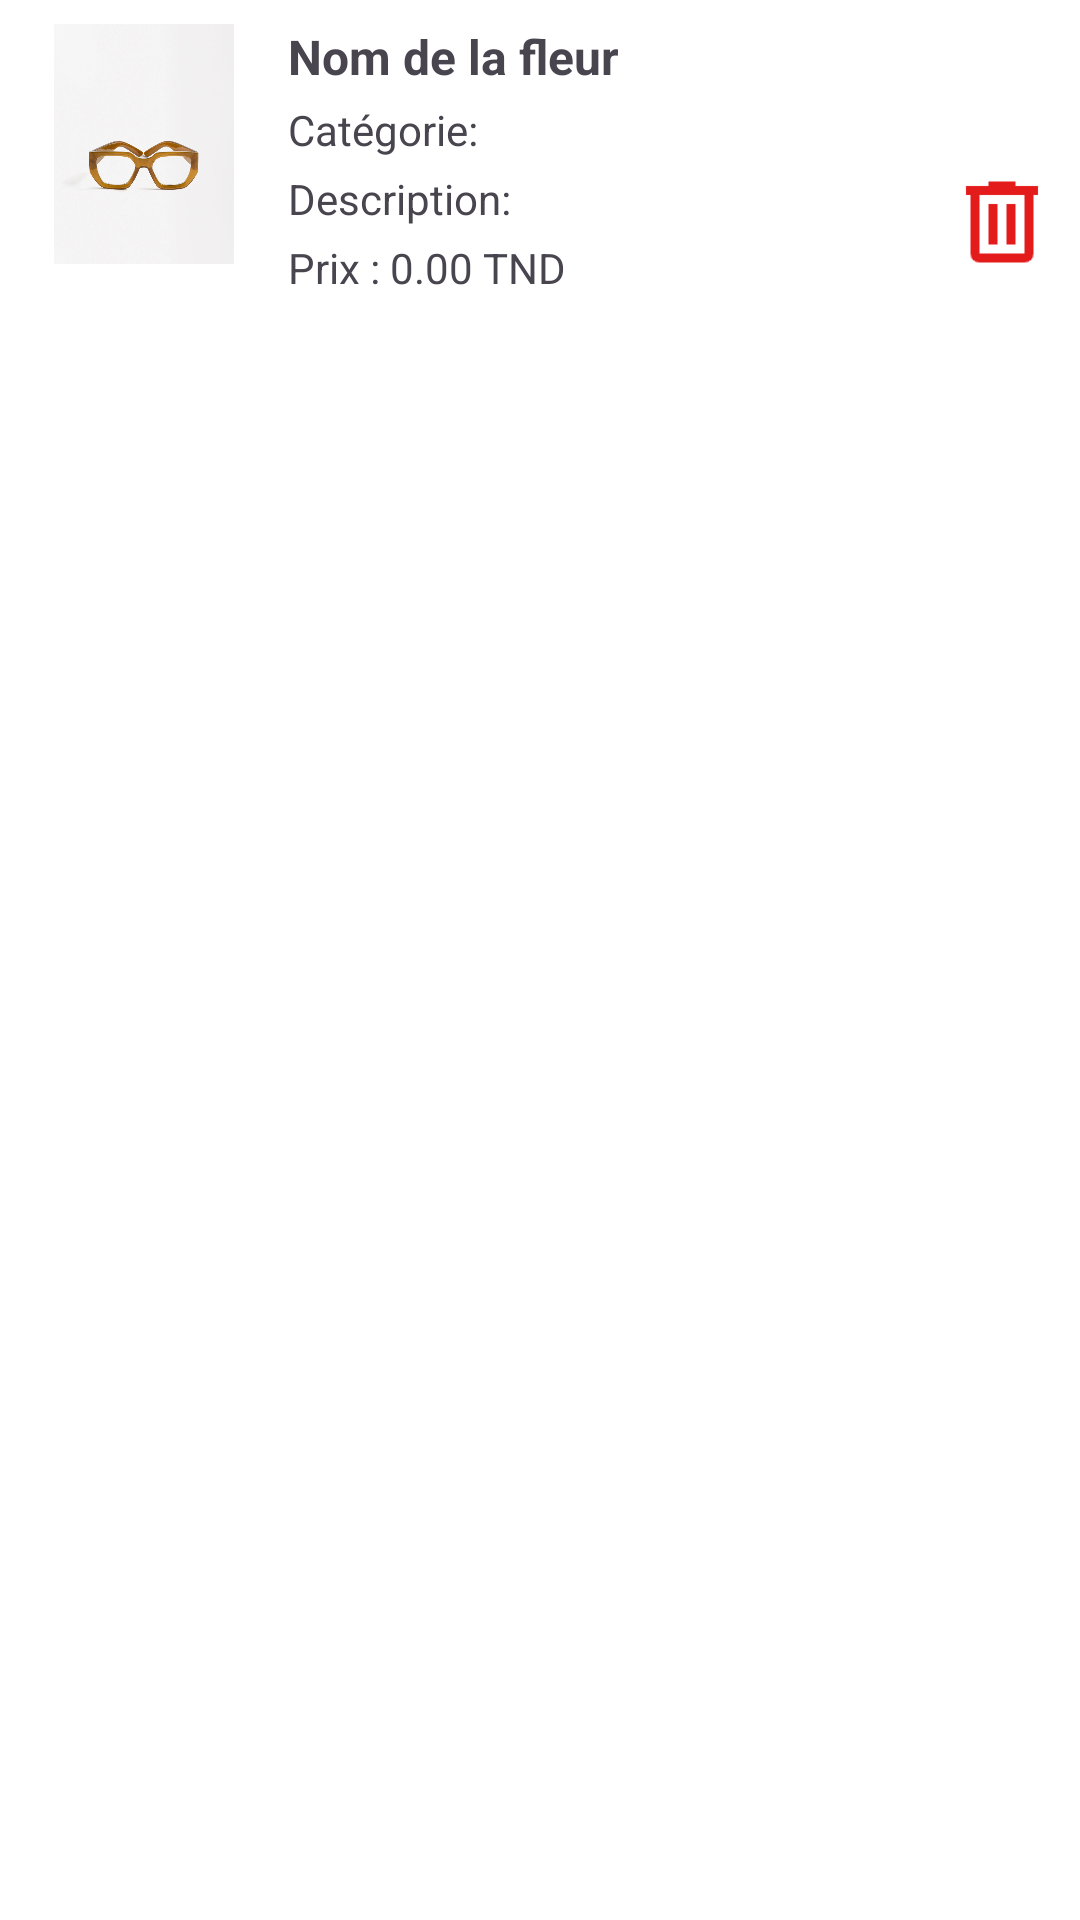

Named icons in this screenshot (1080x1920) and their centers, (x=x, y=y):
lunettes: (x=144, y=144)
Supprimer: (x=1002, y=222)
